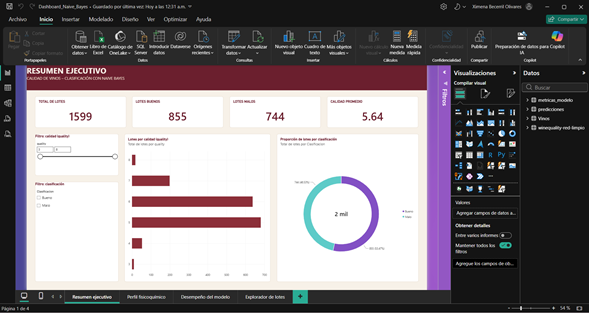

Layout of this report page (visuals, bound fields, positions):
{"tool":"powerbi","page":{"name":"Resumen ejecutivo","canvas":[1920,1080],"ordinal":0},"visuals":[{"type":"textbox","box":[0,0,1920,120],"z":0},{"type":"card","title":"TOTAL DE LOTES","fields":{"Values":["Vinos.Total de lotes"]},"box":[40,150,437,150],"z":1},{"type":"card","title":"LOTES BUENOS","fields":{"Values":["Vinos.Lotes buenos"]},"box":[507,150,437,150],"z":2},{"type":"card","title":"LOTES MALOS","fields":{"Values":["Vinos.Lotes malos"]},"box":[974,150,437,150],"z":3},{"type":"card","title":"CALIDAD PROMEDIO","fields":{"Values":["Vinos.Calidad promedio"]},"box":[1441,150,437,150],"z":4},{"type":"slicer","title":"Filtro: calidad (quality)","fields":{"Values":["Vinos.quality"]},"box":[40,330,400,200],"z":5},{"type":"slicer","title":"Filtro: clasificación","fields":{"Values":["Vinos.Clasificacion"]},"box":[40,560,400,480],"z":6},{"type":"clusteredBarChart","title":"Lotes por calidad (quality)","fields":{"Category":["Vinos.quality"],"Y":["Vinos.Total de lotes"]},"box":[470,330,700,710],"z":7},{"type":"donutChart","title":"Proporción de lotes por clasificación","fields":{"Category":["Vinos.Clasificacion"],"Y":["Vinos.Total de lotes"]},"box":[1200,330,680,710],"z":8}]}

Visuals, with their boxes on the page's 1920x1080 design canvas (x1, y1, x2, y2). These are canvas units, not pixel positions in the 589x313 screenshot, which may show the page scaled, cropped or inside an application window:
textbox: (0,0,1920,120)
"TOTAL DE LOTES" card: (40,150,477,300)
"LOTES BUENOS" card: (507,150,944,300)
"LOTES MALOS" card: (974,150,1411,300)
"CALIDAD PROMEDIO" card: (1441,150,1878,300)
"Filtro: calidad (quality)" slicer: (40,330,440,530)
"Filtro: clasificación" slicer: (40,560,440,1040)
"Lotes por calidad (quality)" clusteredBarChart: (470,330,1170,1040)
"Proporción de lotes por clasificación" donutChart: (1200,330,1880,1040)
